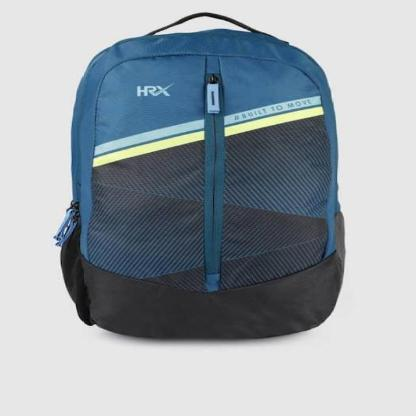bag: (49, 4, 350, 345)
